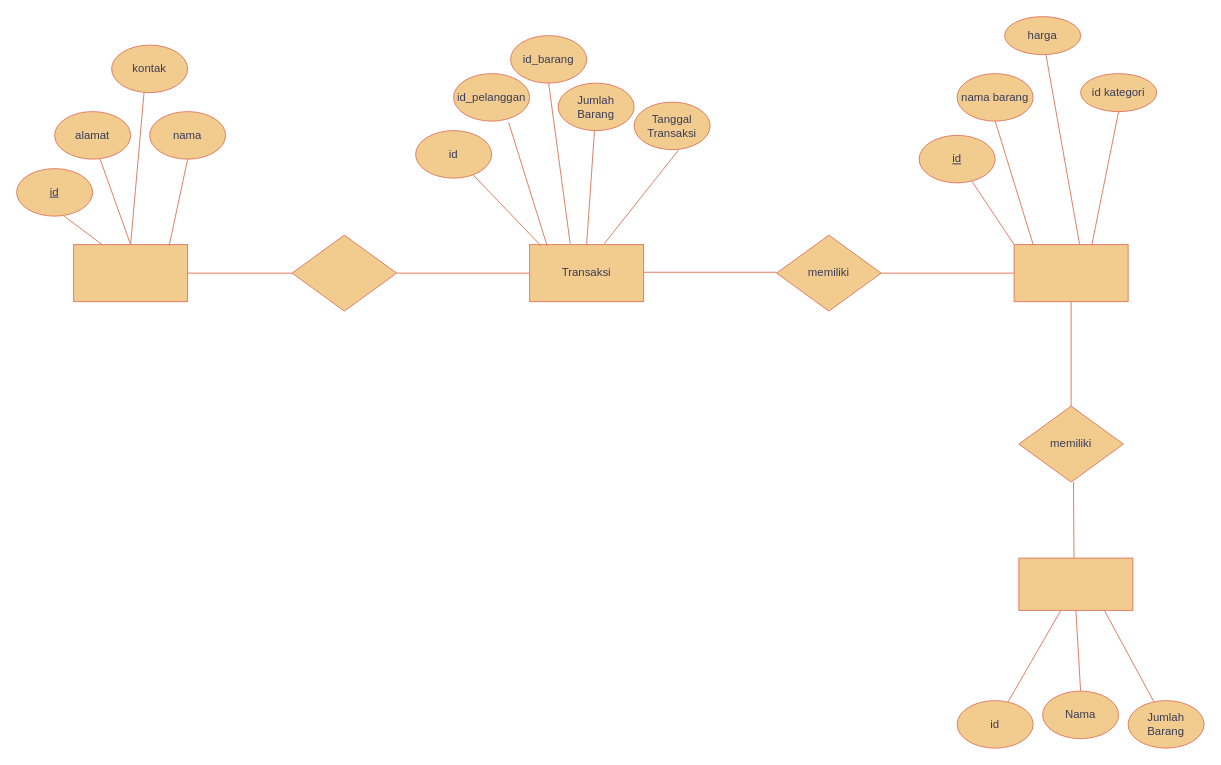
This 1221x765 diagram has some shape labels left out. The shapes that lost their labels are listed below. From the top down, each one's centre as x and y in pixels, then its label:
At point 130,273: "Pelanggan".
At point 344,272: "Melakukan".
At point 1070,273: "Barang".
At point 1075,583: "Kategori".
